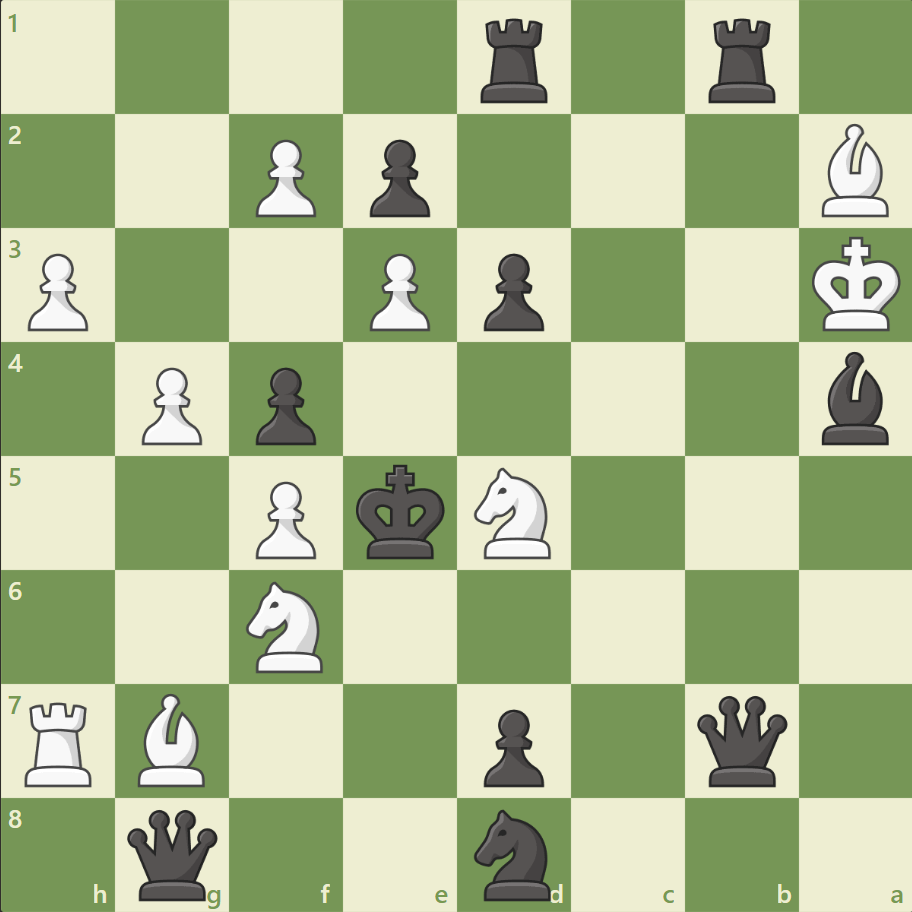B: (131, 687, 215, 790), (812, 120, 896, 222)
K: (806, 231, 906, 339)
N: (465, 461, 562, 564), (238, 575, 335, 677)
P: (247, 473, 322, 564), (133, 359, 208, 450), (20, 246, 95, 337), (247, 132, 322, 223), (361, 246, 435, 337)
R: (19, 693, 102, 790)
b: (812, 347, 896, 449)
k: (351, 458, 451, 566)
n: (465, 802, 562, 904)
p: (474, 700, 549, 791), (247, 359, 322, 450), (474, 246, 549, 337), (361, 132, 435, 223)
q: (124, 804, 223, 903), (691, 690, 790, 789)
r: (700, 12, 783, 109), (473, 12, 556, 109)
